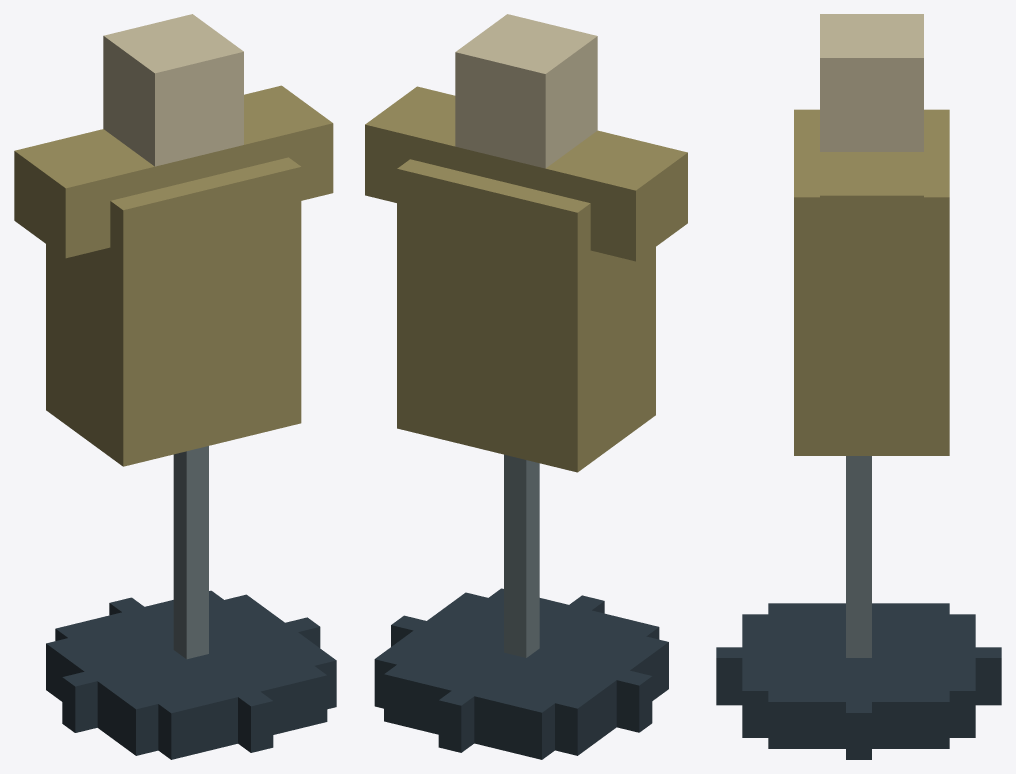
Rendered from sports-09.glb.
3 renders of one model, left to right at view 1: azimuth 30°, elevation 25°; view 2: azimuth 150°, elevation 25°; view 3: azimuth 270°, elevation 25°, orthographic.
Parts seen in each view (by area): view 1: Team jersey; view 2: Team jersey; view 3: Team jersey.
Part boxes in pixels (box(x1,y1,x2,y2)): Team jersey: box(14, 14, 336, 759); Team jersey: box(365, 14, 687, 759); Team jersey: box(716, 14, 1001, 759).
Bounding box in the file's own units: 0.96 × 2.24 × 0.88.
